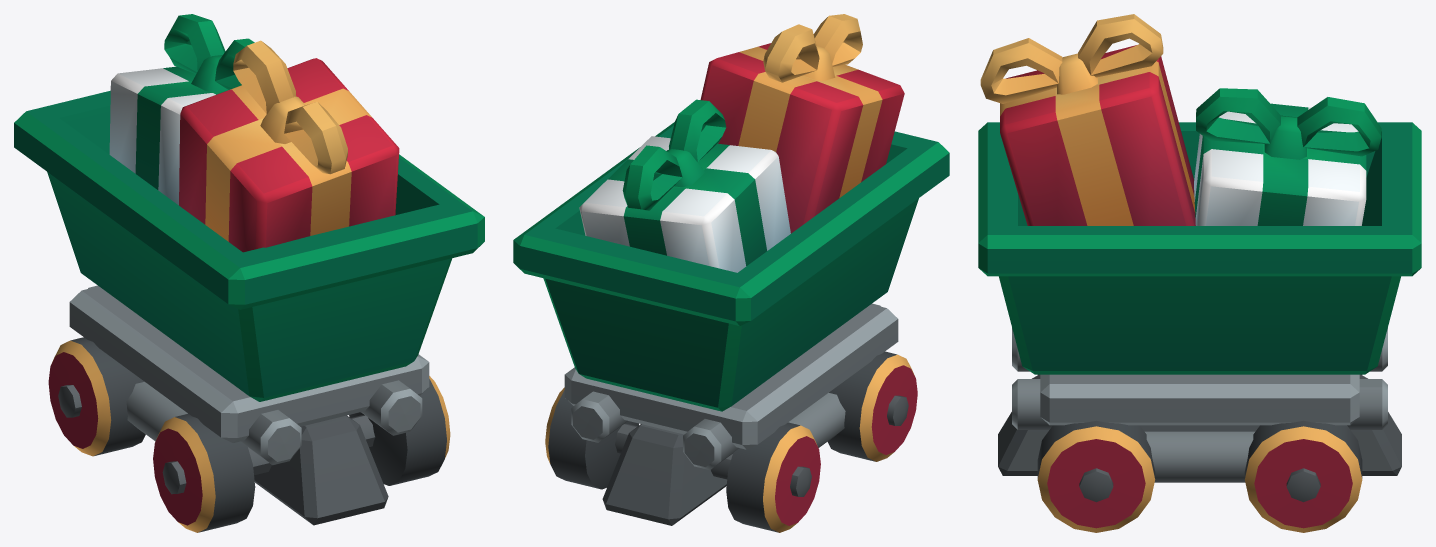
The model's file is train_tender_presents_A.glb.
3 views of the same model, side by side, from view 1: azimuth 30°, elevation 25°; view 2: azimuth 150°, elevation 25°; view 3: azimuth 270°, elevation 25° (orthographic). The views are drawn at different scales.
Parts seen in each view (by area): view 1: train_tender_presents_A; view 2: train_tender_presents_A; view 3: train_tender_presents_A.
Boxes of the visible parts, bbox=[...] form: train_tender_presents_A: bbox=[14, 14, 484, 532]; train_tender_presents_A: bbox=[513, 14, 949, 532]; train_tender_presents_A: bbox=[978, 14, 1421, 532].
Size of the model in its own units: 0.4459 by 0.715 by 0.6421.
Materials: 1 (1 with a texture image).
